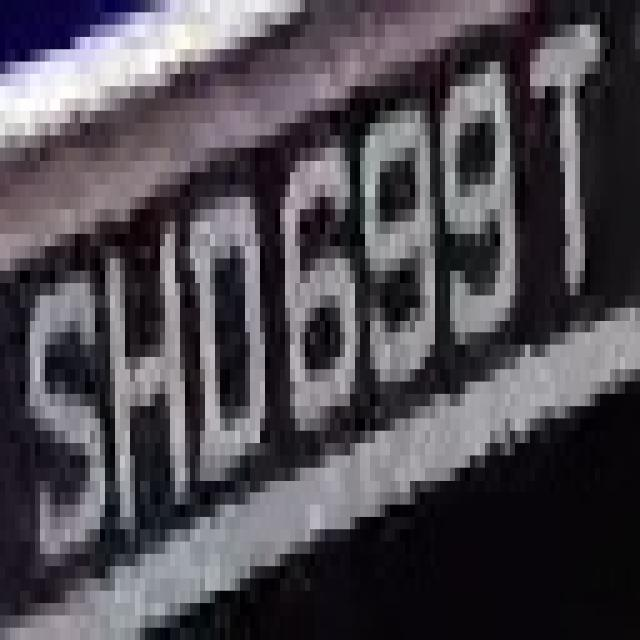6: (265, 135, 360, 480)
9: (345, 62, 440, 430), (425, 62, 525, 406)
D: (185, 172, 270, 505)
H: (90, 209, 195, 529)
S: (20, 222, 115, 566)
T: (510, 0, 630, 308)
